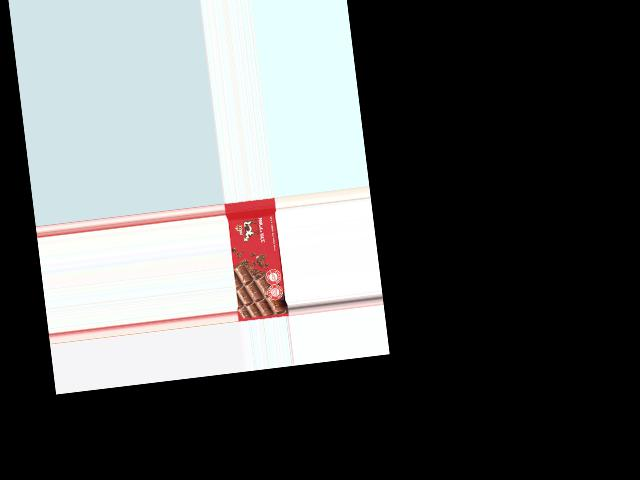chocolate: (225, 199, 289, 321)
